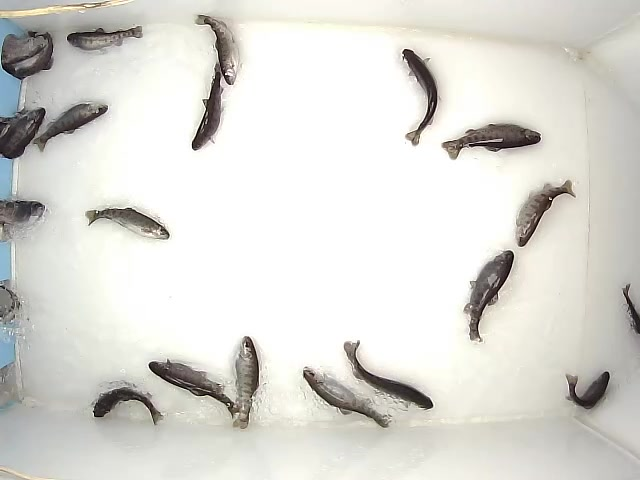fish: (342, 338, 434, 411), (148, 356, 243, 421), (302, 366, 394, 429), (461, 250, 515, 345), (514, 179, 577, 248), (401, 48, 443, 147), (440, 122, 543, 162), (31, 102, 110, 154), (192, 13, 243, 86), (190, 61, 225, 152), (92, 386, 165, 427), (84, 207, 171, 241), (231, 335, 260, 431), (66, 25, 144, 53), (563, 371, 611, 410)
